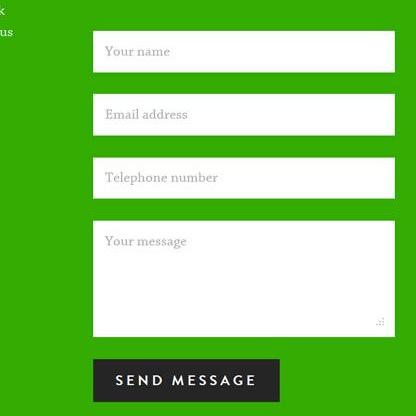button: (92, 358, 281, 403)
field: (91, 219, 396, 338), (91, 93, 397, 137), (93, 28, 395, 72), (92, 157, 397, 200)
